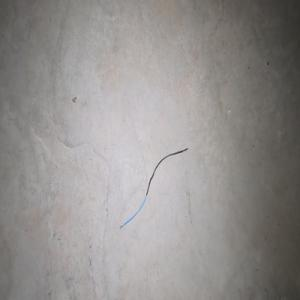Wire: (119, 147, 188, 229)
